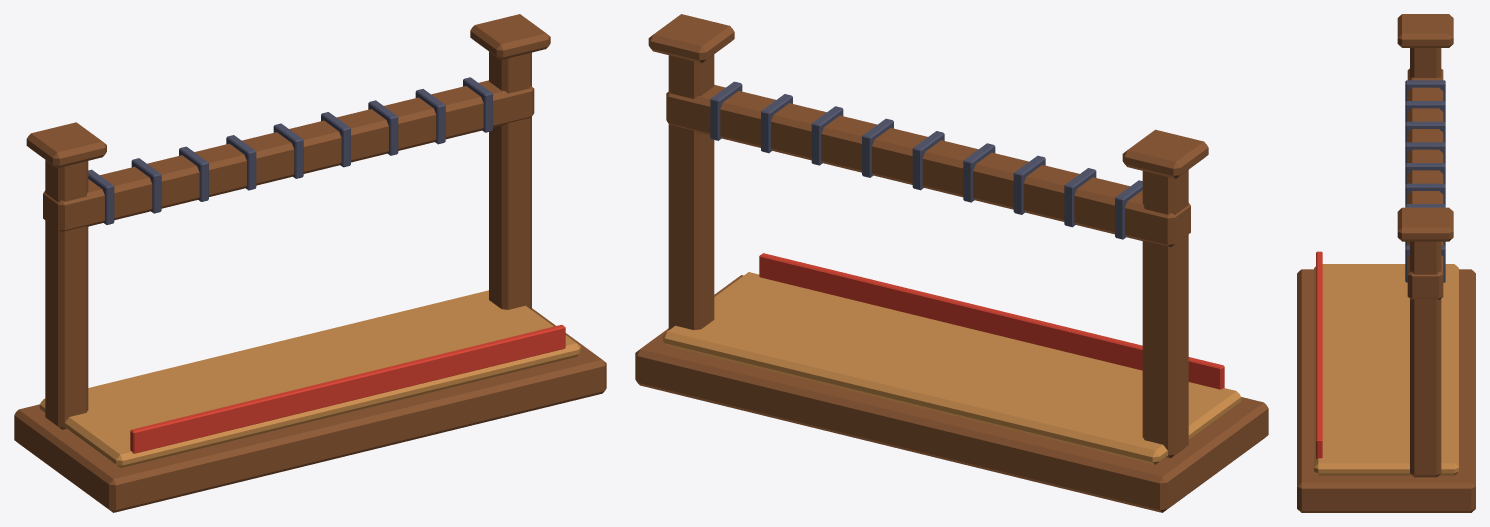
File: myw_shoprack.glb
The picture shows the model from 3 angles, left to right: view 1: azimuth 30°, elevation 25°; view 2: azimuth 150°, elevation 25°; view 3: azimuth 270°, elevation 25°; orthographic projection. The views are drawn at different scales.
Visible parts, largest first — view 1: Base, Posts, Trim; view 2: Base, Posts, Trim; view 3: Base, Posts, Trim.
Part boxes in pixels (<box>): Base: <box>14,290,606,512</box>; Posts: <box>26,14,550,429</box>; Trim: <box>88,77,565,453</box>; Base: <box>635,272,1268,512</box>; Posts: <box>648,14,1208,458</box>; Trim: <box>710,81,1224,389</box>; Base: <box>1297,264,1475,512</box>; Posts: <box>1397,14,1453,477</box>; Trim: <box>1316,80,1445,458</box>.
Bounding box in the file's own units: 4.6 × 2.82 × 1.6.
